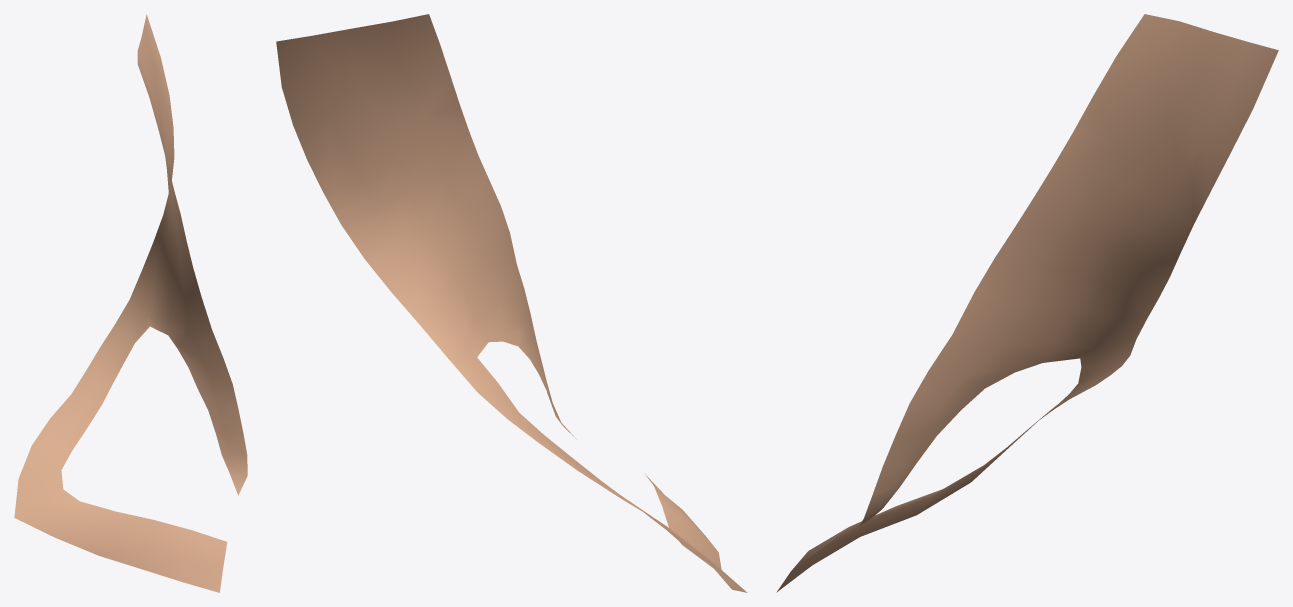
File: lateral-region-of-neck-r.glb
The picture shows the model from 3 angles, left to right: view 1: azimuth 30°, elevation 25°; view 2: azimuth 150°, elevation 25°; view 3: azimuth 270°, elevation 25°; orthographic projection. The views are drawn at different scales.
Parts seen in each view (by area): view 1: Lateral region of neck.r; view 2: Lateral region of neck.r; view 3: Lateral region of neck.r.
Part boxes in pixels (<box>): Lateral region of neck.r: <box>14,14,247,592</box>; Lateral region of neck.r: <box>276,14,747,592</box>; Lateral region of neck.r: <box>776,14,1278,592</box>.
Size of the model in its own units: 0.0811 by 0.1438 by 0.1067.
